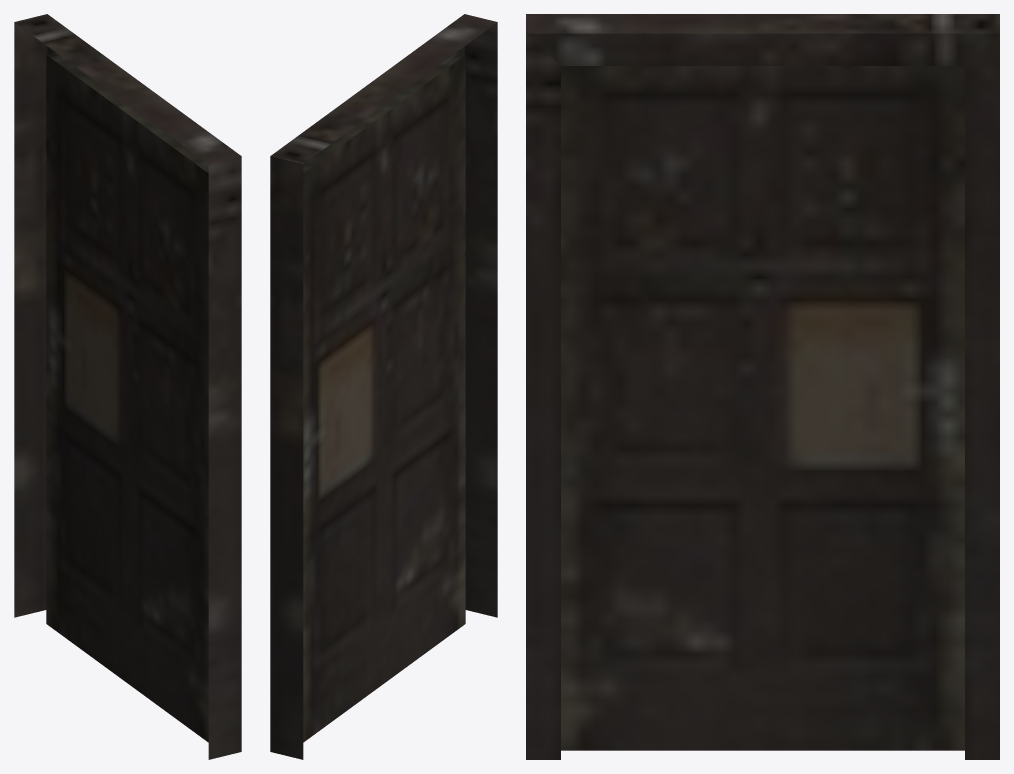
The model's file is BalconyDoor.FBX.
The picture shows the model from 3 angles, left to right: view 1: azimuth 30°, elevation 25°; view 2: azimuth 150°, elevation 25°; view 3: azimuth 270°, elevation 25°; orthographic projection. The views are drawn at different scales.
Parts seen in each view (by area): view 1: BalconyDoor; view 2: BalconyDoor; view 3: BalconyDoor.
Part boxes in pixels (bbox=[...]): BalconyDoor: bbox=[14, 14, 241, 759]; BalconyDoor: bbox=[270, 14, 497, 759]; BalconyDoor: bbox=[526, 14, 999, 759].
Size of the model in its own units: 15.87 by 272 by 161.
